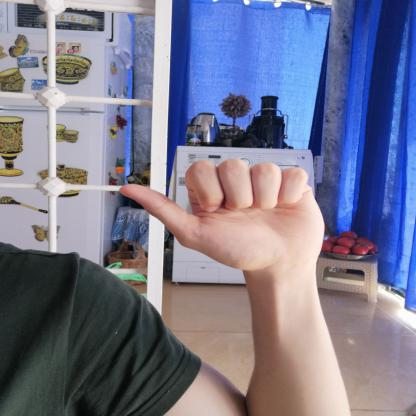DAD: (106, 151, 338, 282)
